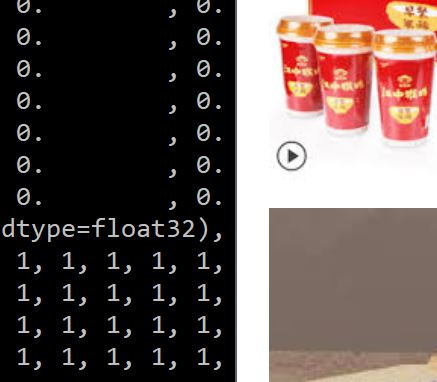cup: (374, 29, 437, 143), (318, 24, 372, 133), (276, 15, 329, 115)
